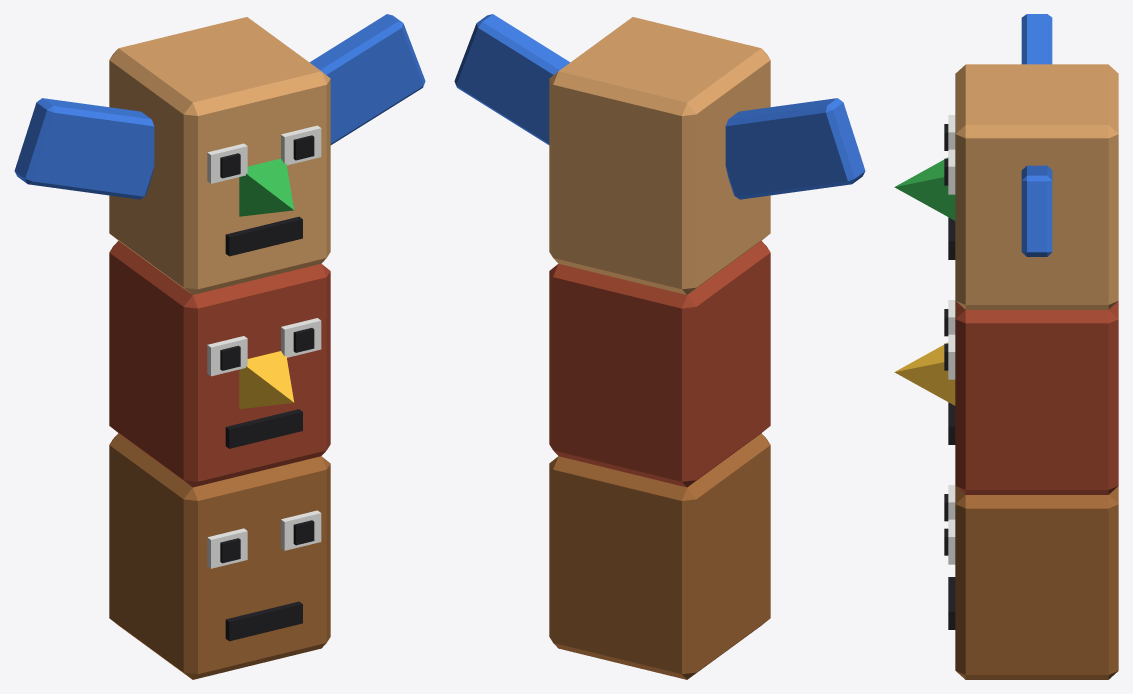
Rendered from Totem.fbx.
The picture shows the model from 3 angles, left to right: view 1: azimuth 30°, elevation 25°; view 2: azimuth 150°, elevation 25°; view 3: azimuth 270°, elevation 25°; orthographic projection. The views are drawn at different scales.
Visible parts, largest first — view 1: Totem; view 2: Totem; view 3: Totem.
Boxes of the visible parts, bbox=[...] form: Totem: bbox=[14, 14, 425, 679]; Totem: bbox=[454, 14, 865, 679]; Totem: bbox=[894, 14, 1118, 679].
Bounding box in the file's own units: 4.35 × 6 × 2.2.
1 material, 1 textured.
